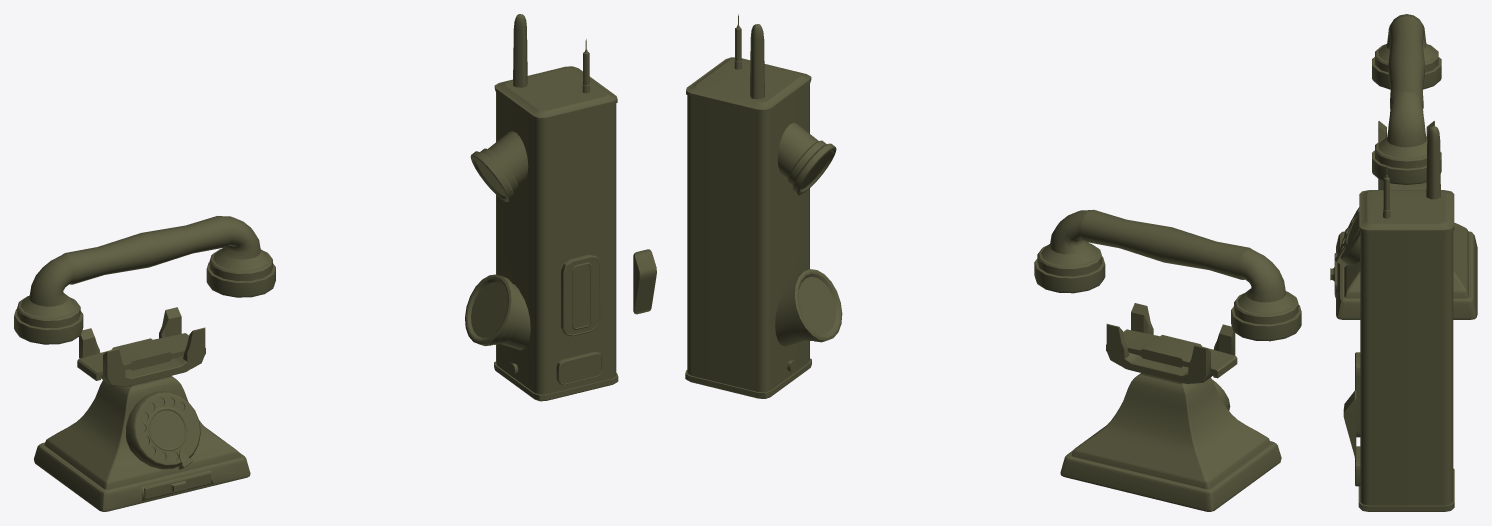
Rendered from SM_Telephone.fbx.
3 views of the same model, side by side, from view 1: azimuth 30°, elevation 25°; view 2: azimuth 150°, elevation 25°; view 3: azimuth 270°, elevation 25° (orthographic). The views are drawn at different scales.
Visible parts, largest first — view 1: SM_Walkie, SM_TelephoneBase, SM_TelephoneReceiv, SM_WalkieButton; view 2: SM_Walkie, SM_TelephoneBase, SM_TelephoneReceiv; view 3: SM_Walkie, SM_TelephoneReceiv, SM_TelephoneBase, SM_WalkieButton.
Part boxes in pixels (<box>): SM_Walkie: <box>465,14,618,401</box>; SM_TelephoneBase: <box>34,307,250,511</box>; SM_TelephoneReceiv: <box>14,216,275,344</box>; SM_WalkieButton: <box>633,249,656,314</box>; SM_Walkie: <box>685,14,842,398</box>; SM_TelephoneBase: <box>1060,303,1281,511</box>; SM_TelephoneReceiv: <box>1034,209,1301,341</box>; SM_Walkie: <box>1355,126,1454,511</box>; SM_TelephoneReceiv: <box>1372,14,1441,184</box>; SM_TelephoneBase: <box>1330,121,1477,319</box>; SM_WalkieButton: <box>1343,390,1356,457</box>.
Bounding box in the file's own units: 52.98 × 29.81 × 11.18.
